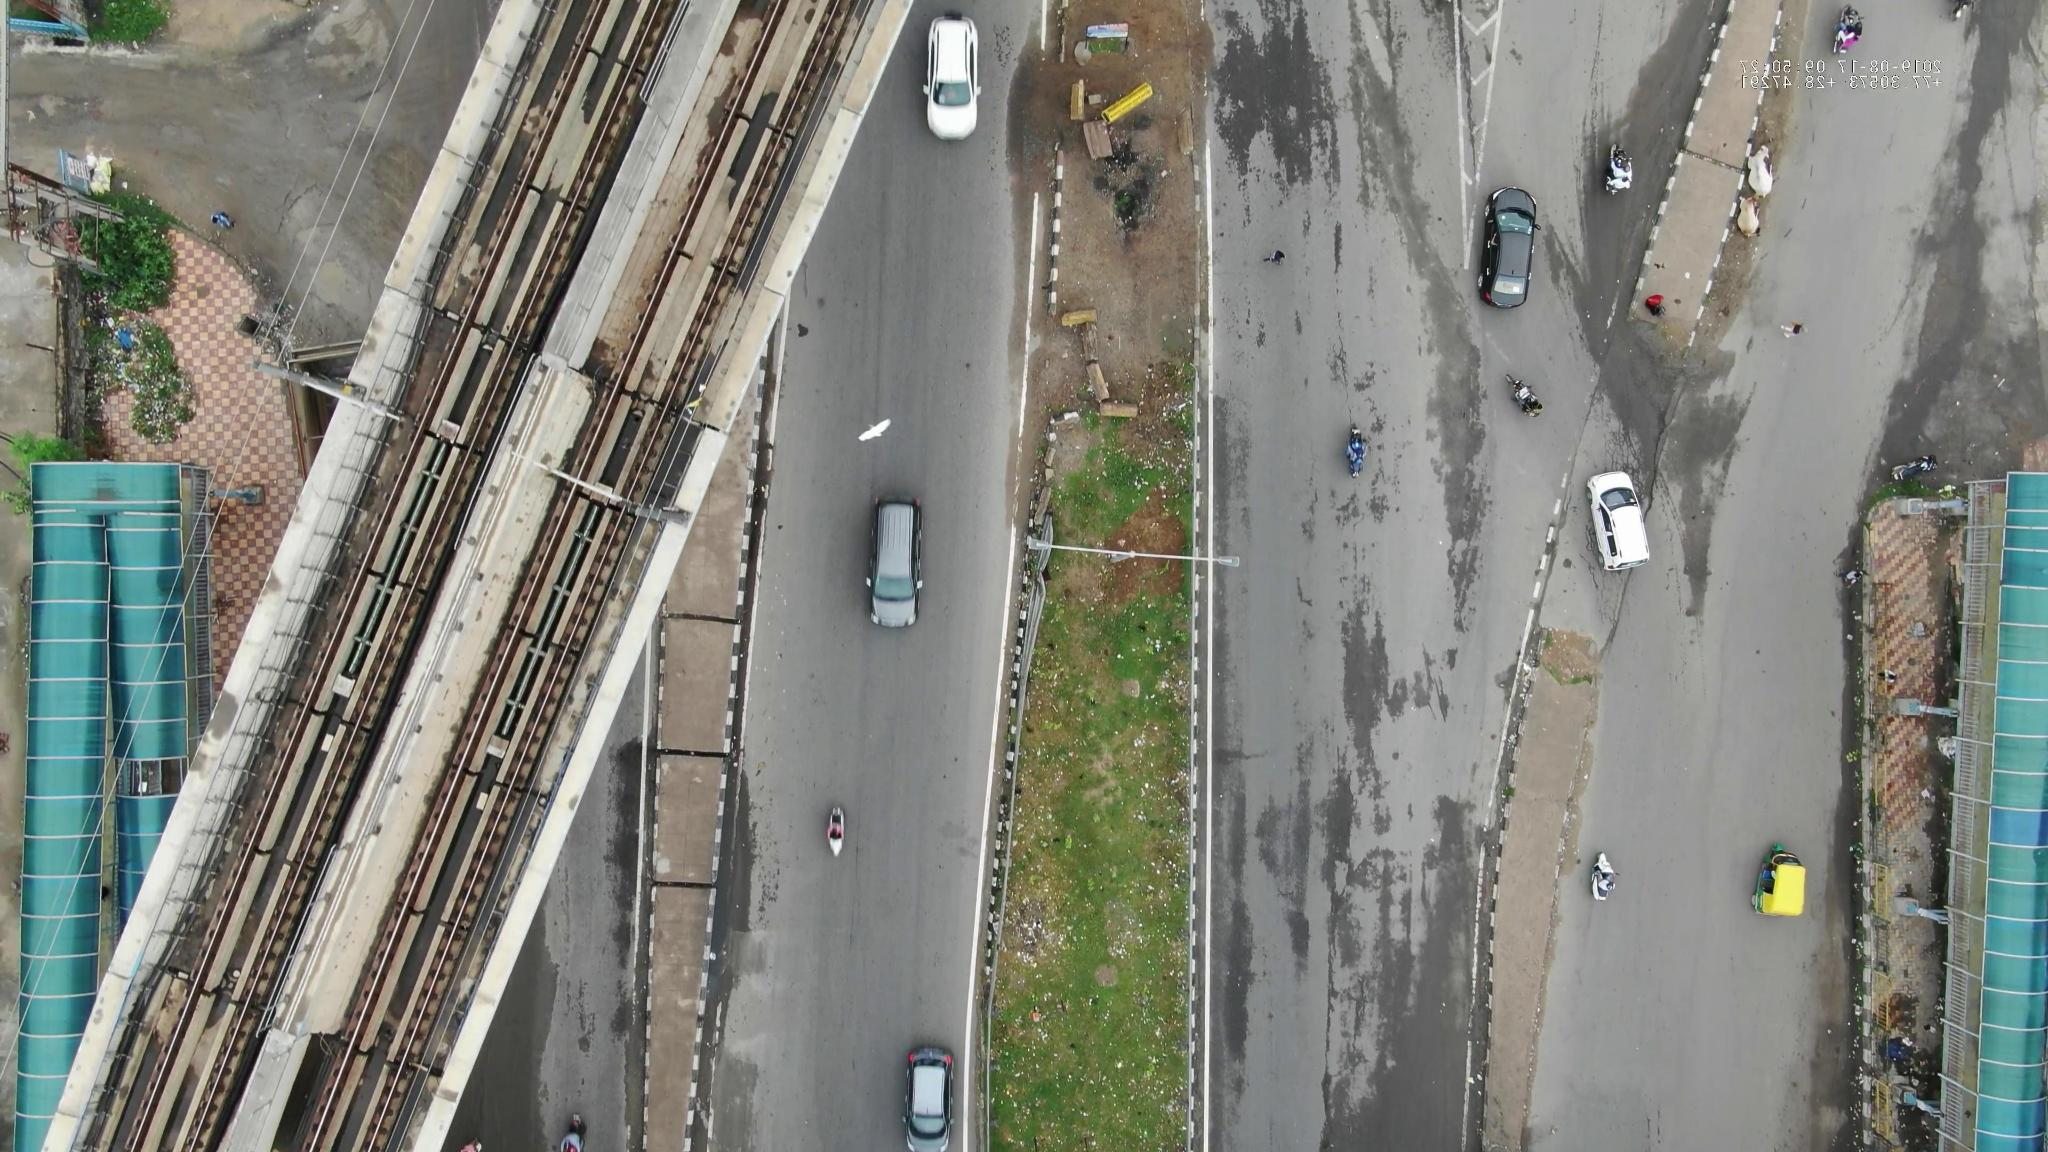Cracks: (260, 134, 322, 238), (987, 24, 1025, 76)
